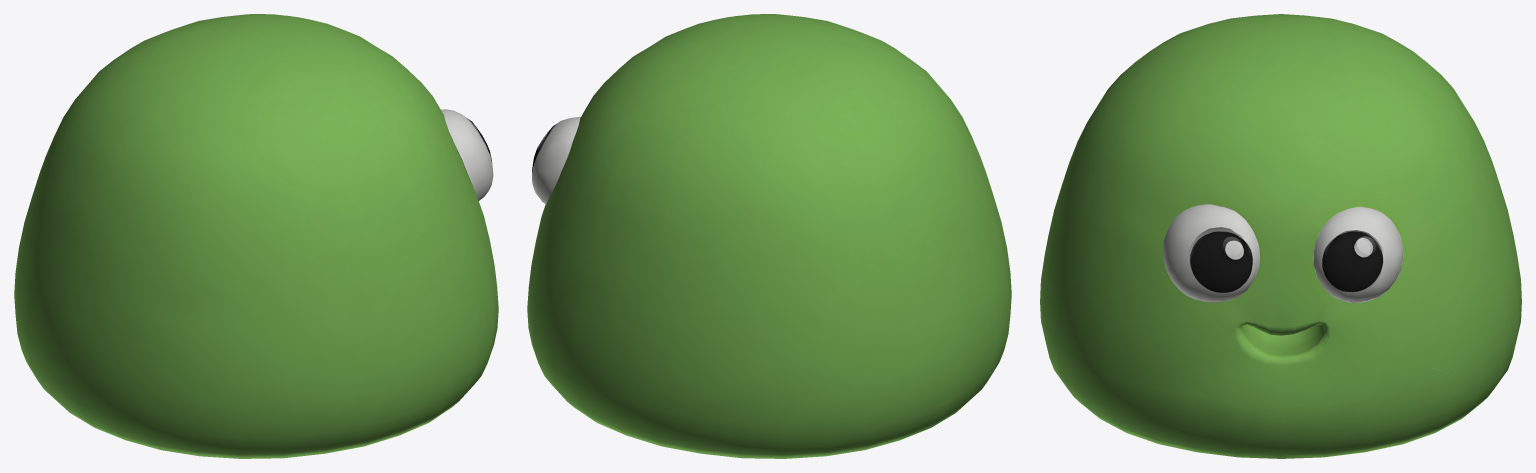
The model's file is 史莱姆3.glb.
3 renders of one model, left to right at view 1: azimuth 30°, elevation 25°; view 2: azimuth 150°, elevation 25°; view 3: azimuth 270°, elevation 25°, orthographic.
Visible parts, largest first — view 1: tripo_node_2d54947e-d2c2-48c9-bc3e-ad9f0cd7c913; view 2: tripo_node_2d54947e-d2c2-48c9-bc3e-ad9f0cd7c913; view 3: tripo_node_2d54947e-d2c2-48c9-bc3e-ad9f0cd7c913.
Part boxes in pixels (box(x1,y1,x2,y2)): tripo_node_2d54947e-d2c2-48c9-bc3e-ad9f0cd7c913: box(14, 14, 498, 458); tripo_node_2d54947e-d2c2-48c9-bc3e-ad9f0cd7c913: box(527, 14, 1011, 458); tripo_node_2d54947e-d2c2-48c9-bc3e-ad9f0cd7c913: box(1040, 14, 1521, 458).
Size of the model in its own units: 0.998 by 0.748 by 0.998.
Materials: 1 (1 with a texture image).
